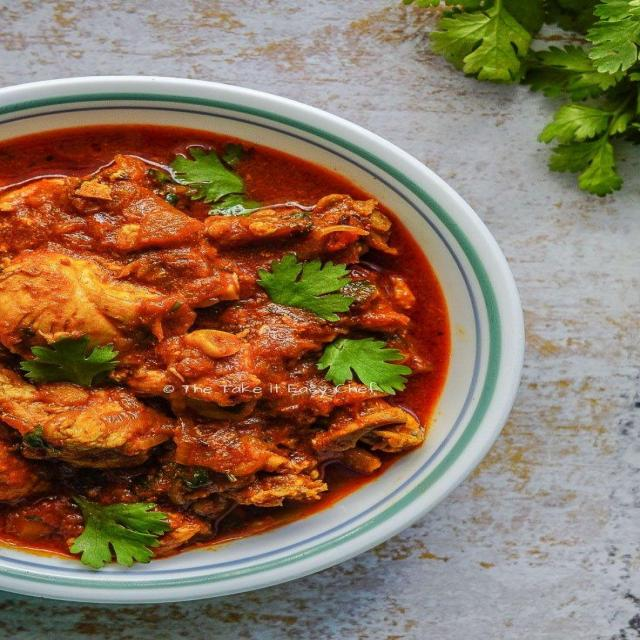chicken: (0, 97, 464, 576)
